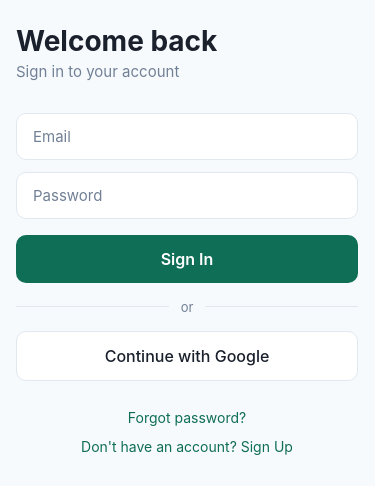
SignInScreen › shows validation error for invalid email
Type "notanemail" into the field with placeholder "Email" at [187, 136], box [16,112,358,160]
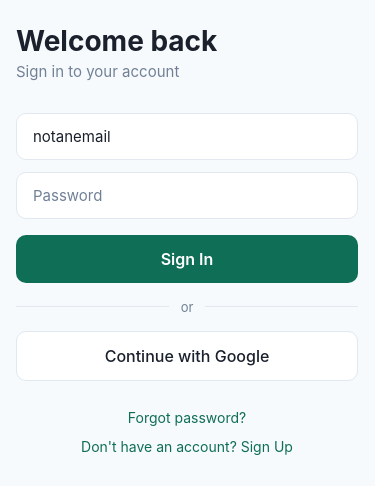
Type "password123" into the password field with placeholder "Password" at [187, 195], box [16,172,358,218]
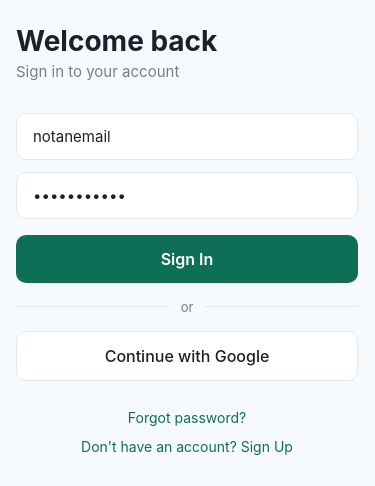
Click the text "Sign In" at [187, 258], box [161,248,213,268]
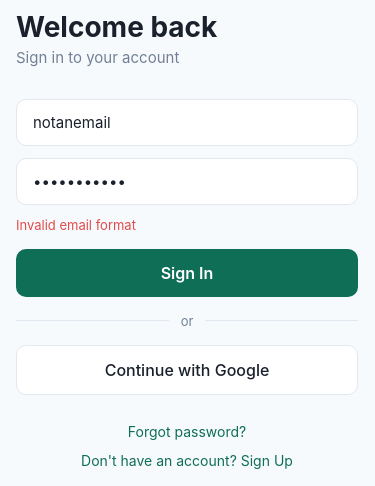
Result: the text "Invalid email format" is shown at [16,216,136,232]
